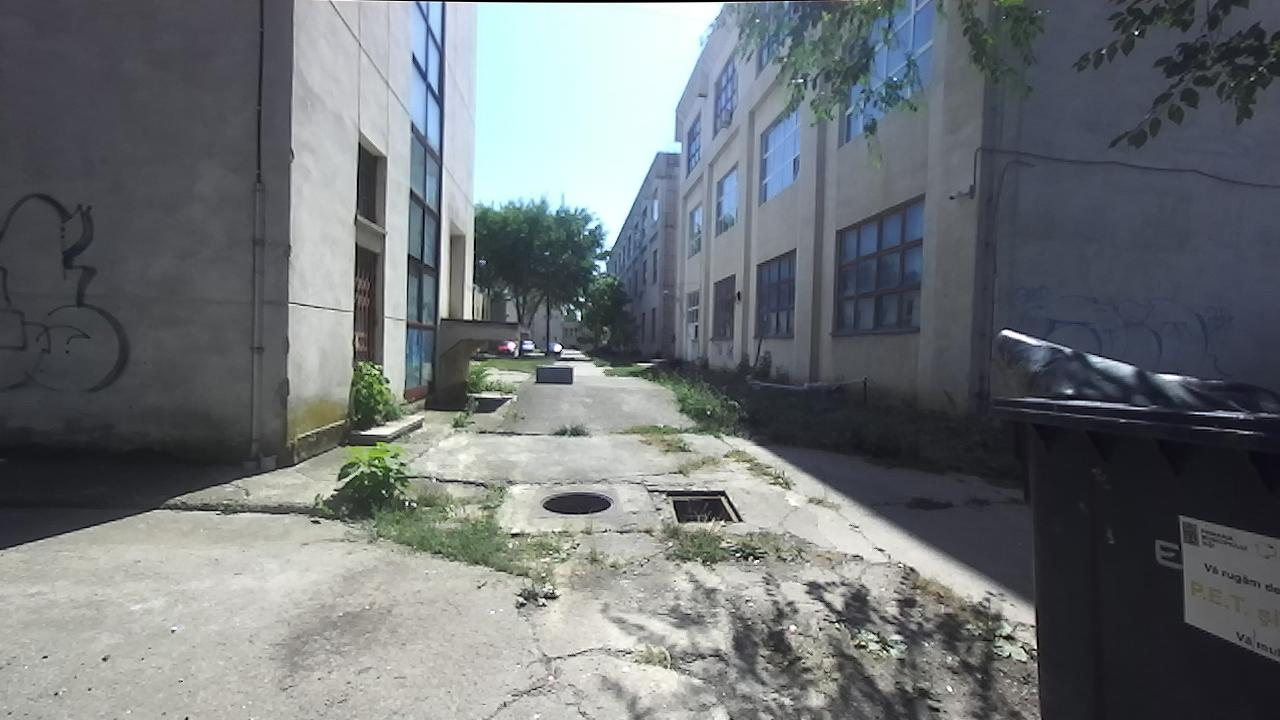drain: (663, 484, 747, 528), (537, 487, 618, 518)
